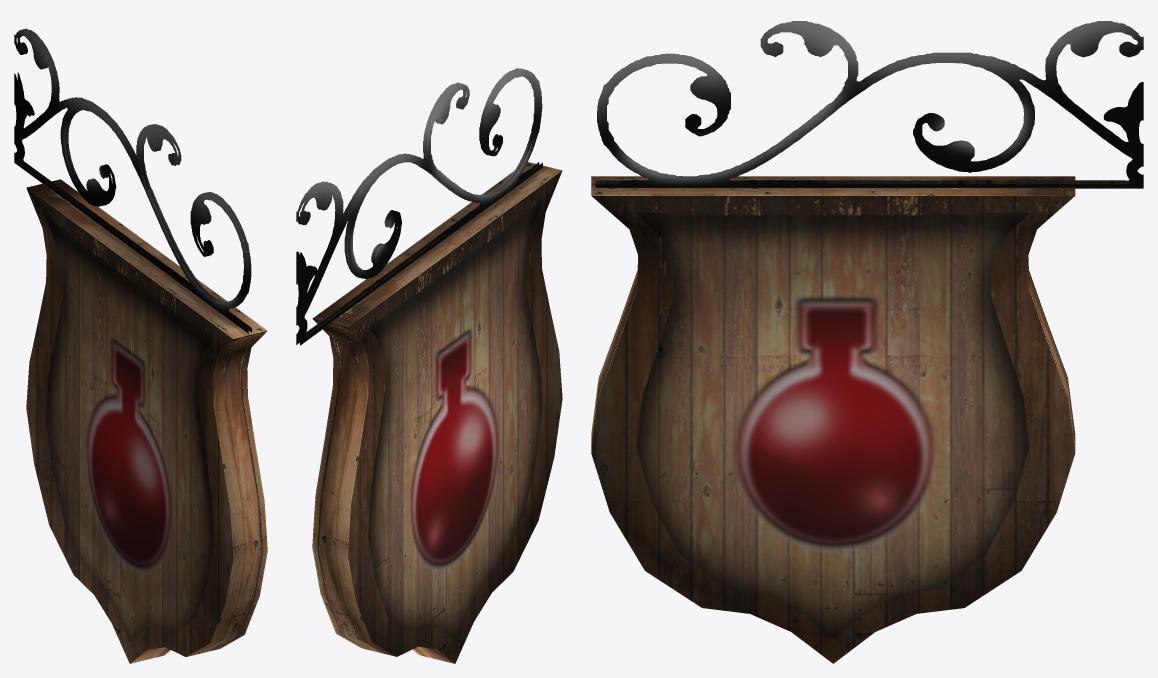
Rendered from Signboard2Potions_atlas.fbx.
The picture shows the model from 3 angles, left to right: view 1: azimuth 30°, elevation 25°; view 2: azimuth 150°, elevation 25°; view 3: azimuth 270°, elevation 25°; orthographic projection. The views are drawn at different scales.
Visible parts, largest first — view 1: polySurface13; view 2: polySurface13; view 3: polySurface13.
Part boxes in pixels (x1,y1,x2,y2): polySurface13: [14, 28, 267, 663]; polySurface13: [296, 68, 562, 663]; polySurface13: [591, 21, 1143, 663].
Size of the model in its own units: 0.1211 by 1.84 by 1.44.
